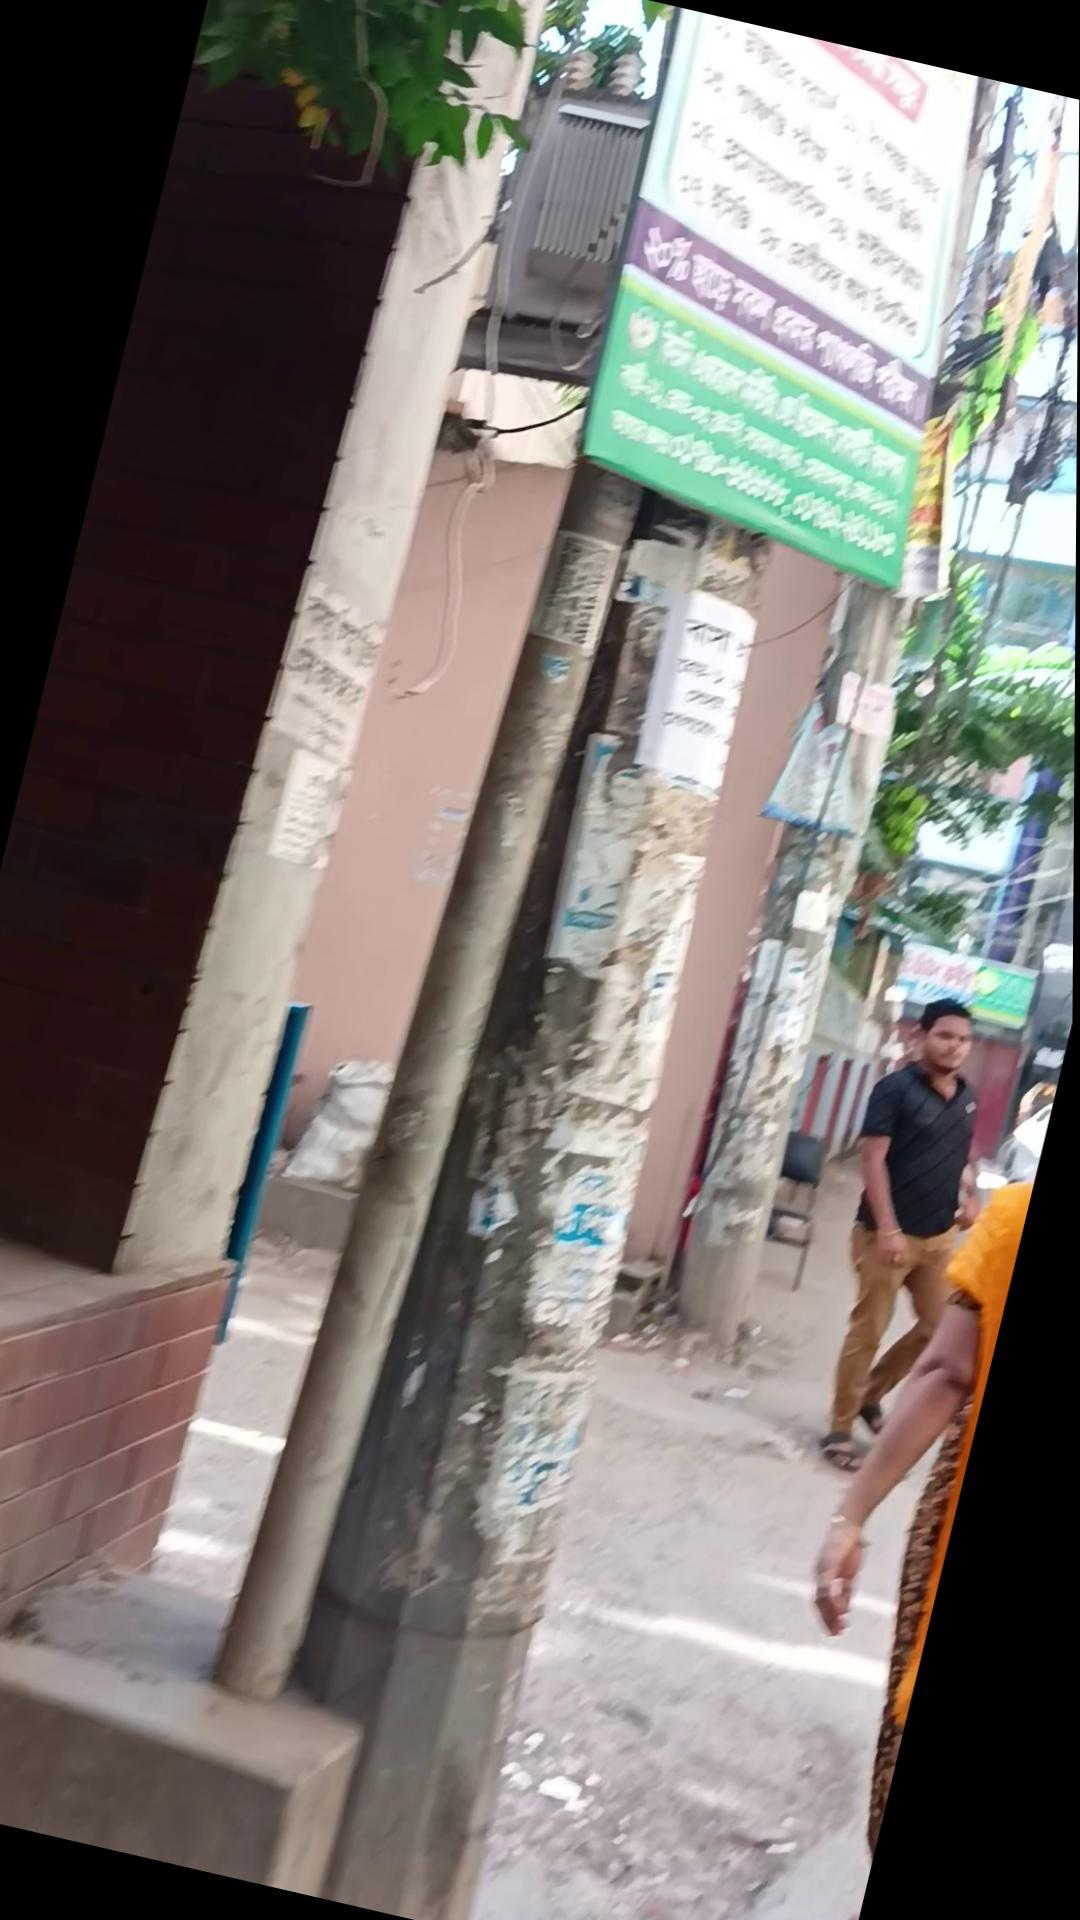Motorcycle: (0, 1606, 377, 1896)
Muddy road: (732, 1151, 1034, 1920), (782, 984, 1029, 1486)
Obstacle: (251, 496, 806, 1902), (210, 436, 651, 1720)
